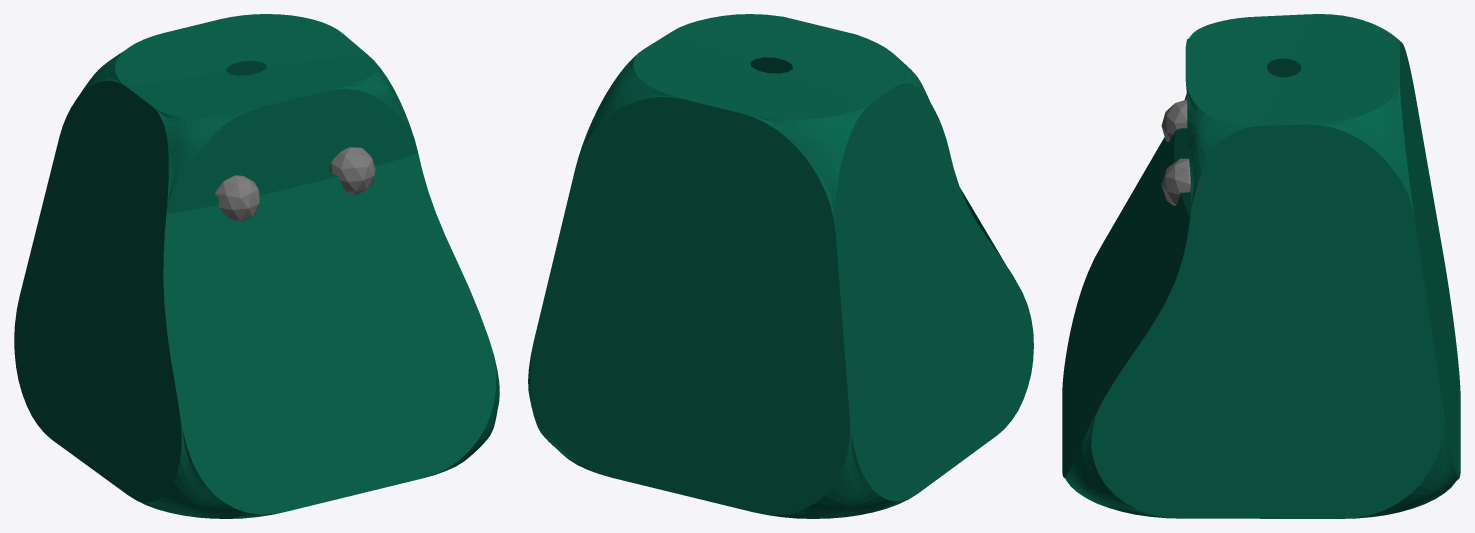
Rendered from snake_head_02.fbx.
3 renders of one model, left to right at view 1: azimuth 30°, elevation 25°; view 2: azimuth 150°, elevation 25°; view 3: azimuth 270°, elevation 25°, orthographic. The views are drawn at different scales.
Visible parts, largest first — view 1: head; view 2: head; view 3: head.
Part boxes in pixels (x1,y1,x2,y2): head: [14, 14, 499, 518]; head: [528, 14, 1033, 518]; head: [1062, 14, 1460, 518].
Bounding box in the file's own units: 199 × 200 × 196.
